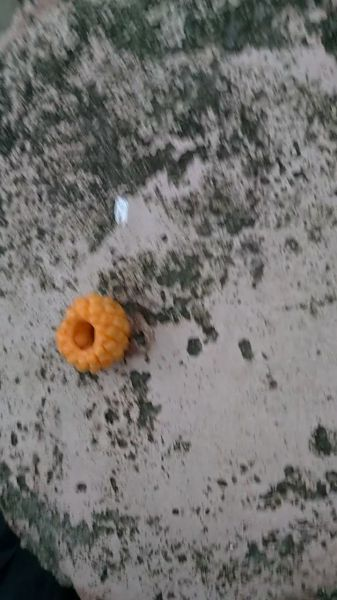eggs: (48, 286, 136, 378)
